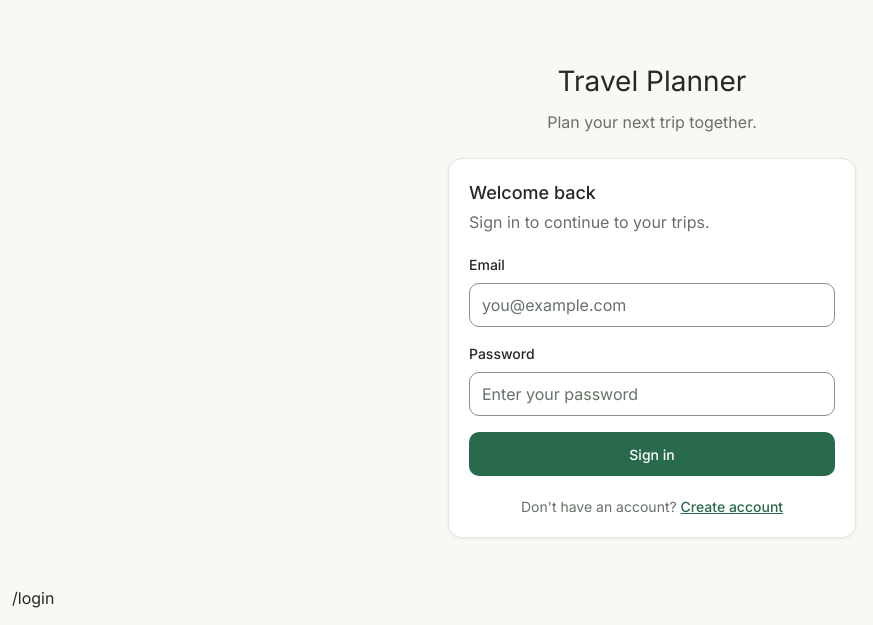
Test: logs in and navigates to home
Check: the heading "Welcome back" is shown, box [469,182,596,203]
Step 1. Type "test-user@example.com" into the field labelled "Email" → (652, 305), box [469,283,835,327]
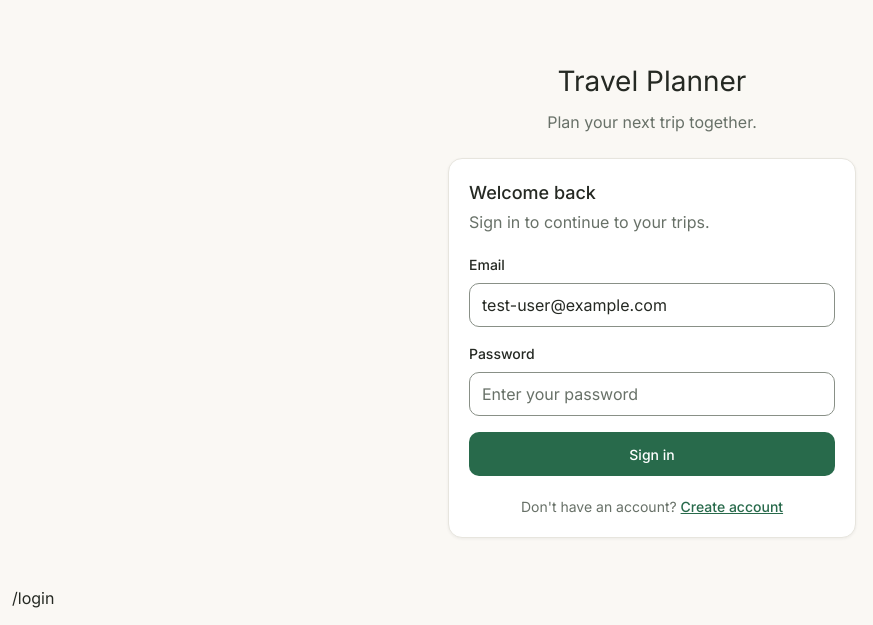
Step 2. Type "example-password" into the password field labelled "Password" → (652, 394), box [469,372,835,416]
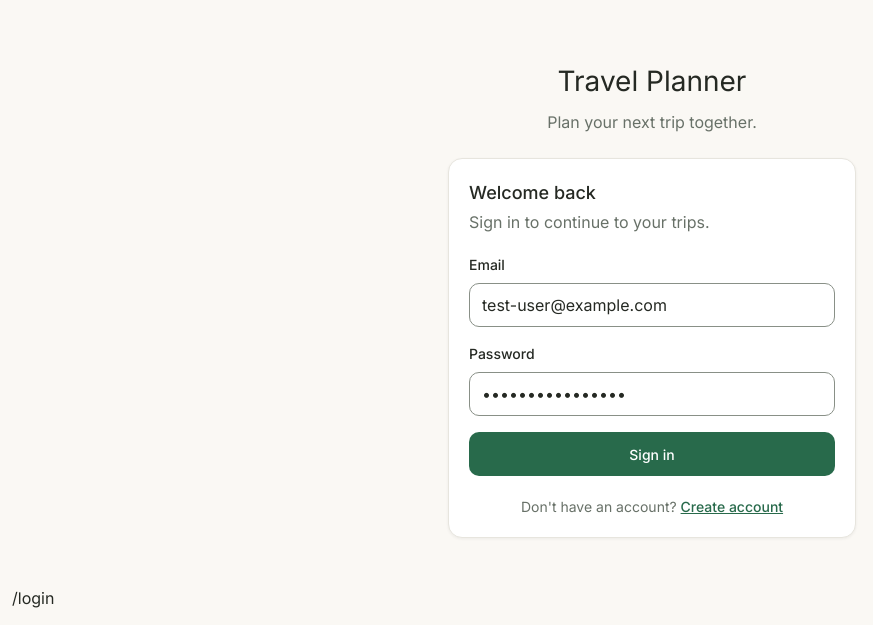
Step 3. Click the button "Sign in" → (652, 454), box [469,432,835,476]
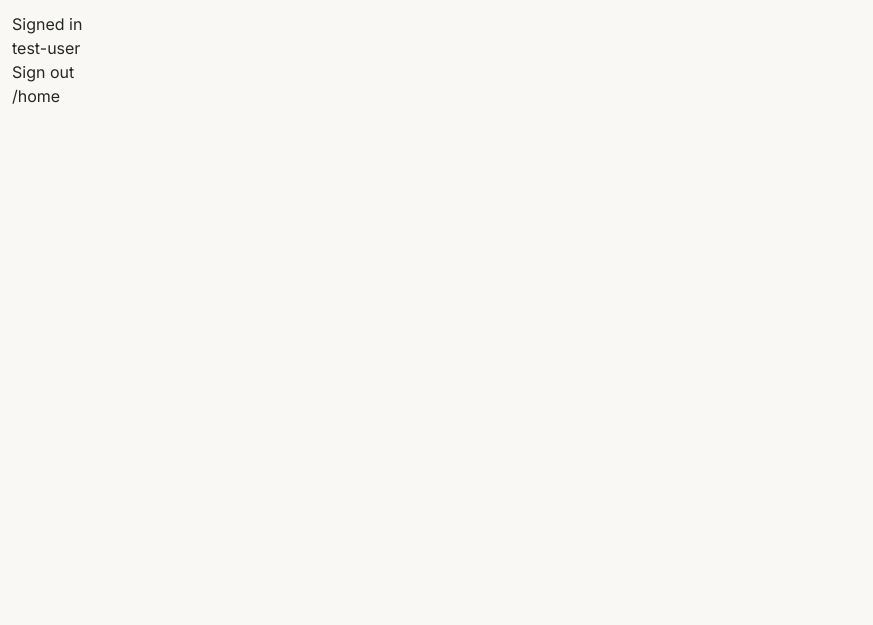
Check: the heading "Signed in" is shown, box [12,14,82,34]
Check: the text "test-user" is shown, box [12,38,80,58]
Check: the text named "Current path" reads "/home", box [12,86,60,106]
